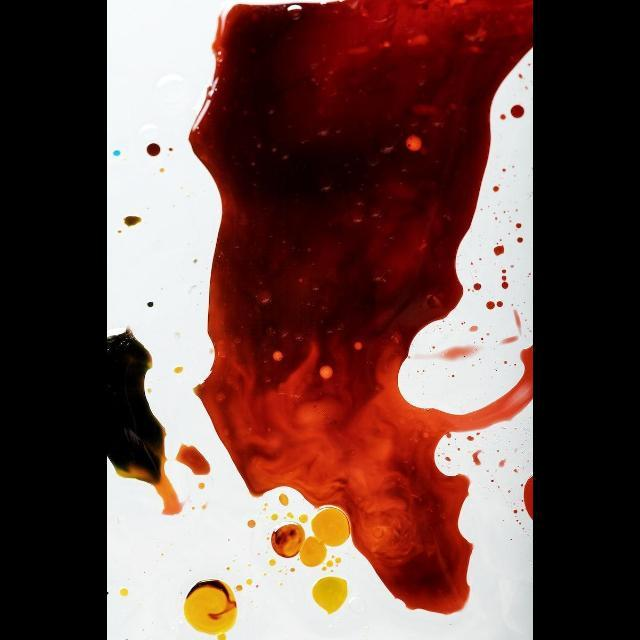blood: (189, 0, 534, 614), (471, 245, 518, 309), (525, 476, 534, 520), (512, 104, 526, 118), (146, 142, 160, 155), (502, 114, 508, 119)
